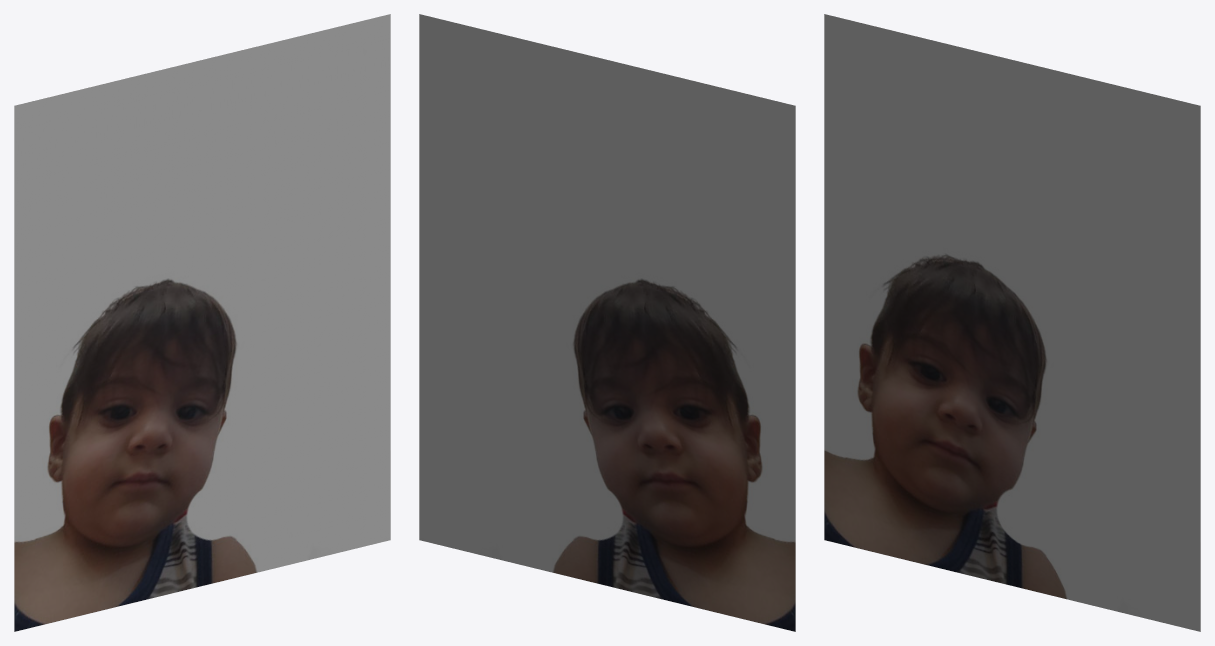
The model's file is ccvui.glb.
The picture shows the model from 3 angles, left to right: view 1: azimuth 30°, elevation 25°; view 2: azimuth 150°, elevation 25°; view 3: azimuth 330°, elevation 25°; orthographic projection.
Parts seen in each view (by area): view 1: Layer 1 Mesh; view 2: Layer 1 Mesh; view 3: Layer 1 Mesh.
Boxes of the visible parts, <box> form: Layer 1 Mesh: <box>14,14,390,631</box>; Layer 1 Mesh: <box>419,14,795,631</box>; Layer 1 Mesh: <box>824,14,1200,631</box>.
Size of the model in its own units: 0.7487 by 1 by 0.
Materials: 1 (1 with a texture image).
